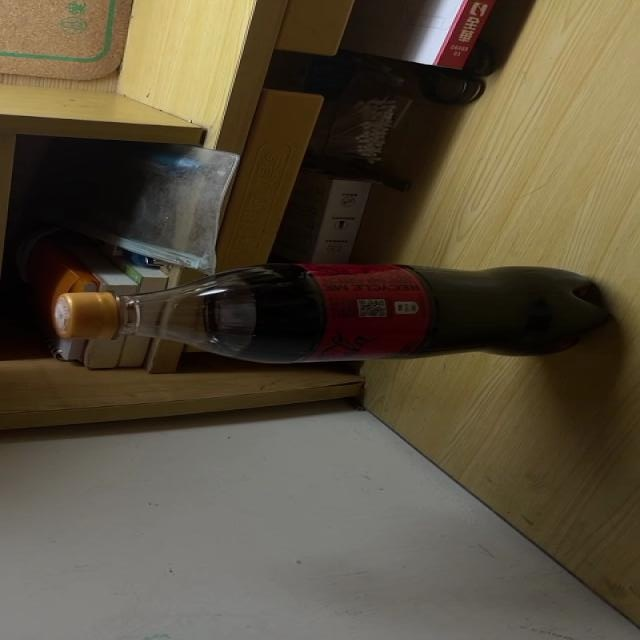Coca-Cola: (58, 264, 608, 361)
